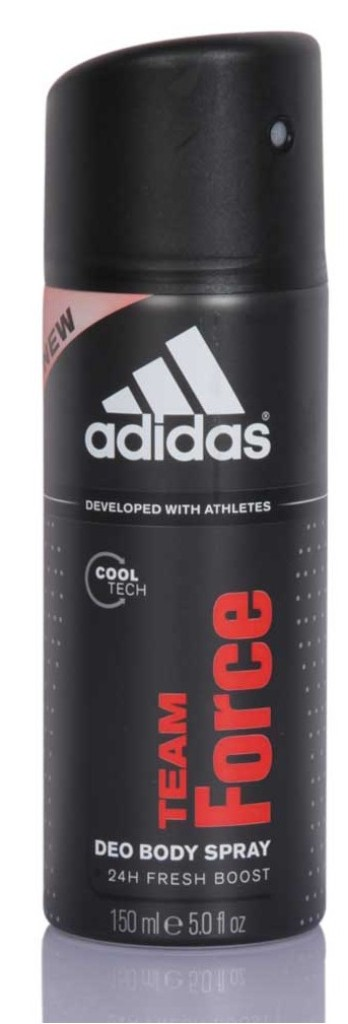Adidas: (82, 322, 276, 466)
